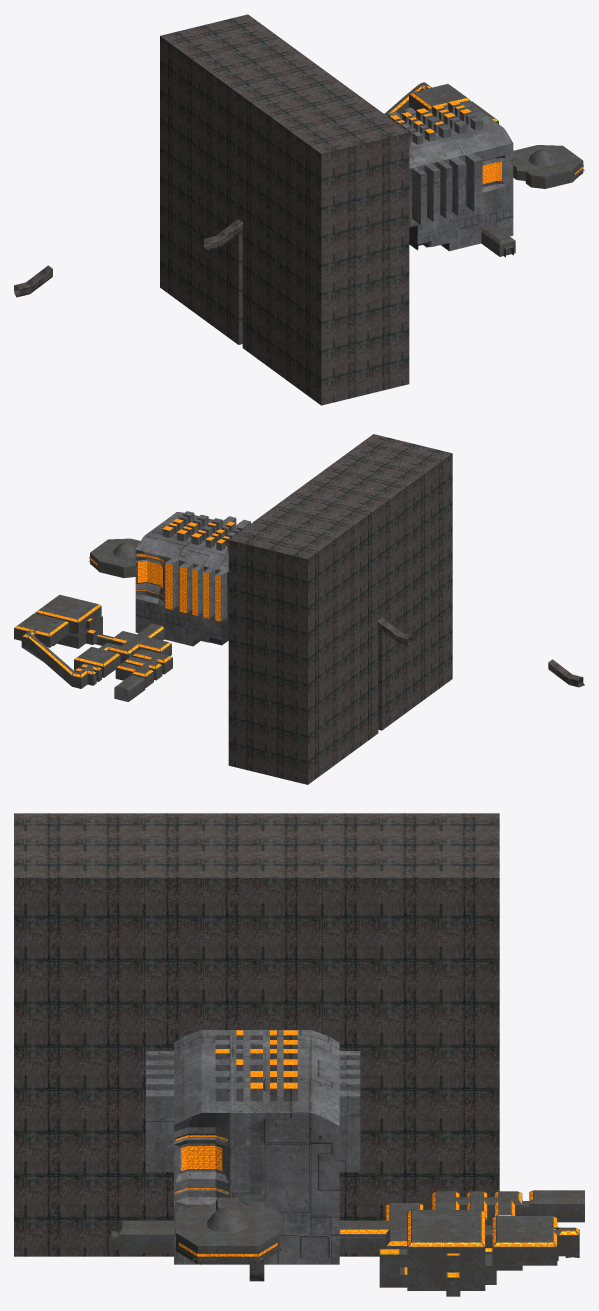
Rendered from levelpart2.fbx.
3 views of the same model, one above another, from view 1: azimuth 30°, elevation 25°; view 2: azimuth 150°, elevation 25°; view 3: azimuth 270°, elevation 25° (orthographic). The views are drawn at different scales.
Visible parts, largest first — view 1: DarkBridge, TreeeRoomWalls, ControlroomGround, BuildingPart2.005, BuildingPart2.004, BridgeCorridor, CorridorBridgeCopy; view 2: DarkBridge, TreeeRoomWalls, BuildingPart2.005, ControlroomGround, BuildingPart2.001; view 3: DarkBridge, TreeeRoomWalls, BuildingPart2.005, ControlroomGround, BuildingPart2.004, BuildingPart2.001.
Part boxes in pixels (x1,y1,x2,y2): DarkBridge: (160,14,409,405); TreeeRoomWalls: (387,100,513,251); ControlroomGround: (513,145,584,188); BuildingPart2.005: (384,82,498,123); BuildingPart2.004: (481,225,515,257); BridgeCorridor: (14,265,52,297); CorridorBridgeCopy: (204,219,242,250); DarkBridge: (228,434,452,784); TreeeRoomWalls: (135,511,250,646); BuildingPart2.005: (14,594,172,688); ControlroomGround: (89,538,140,577); BuildingPart2.001: (114,675,145,701); DarkBridge: (14,813,499,1256); TreeeRoomWalls: (146,1030,360,1264); BuildingPart2.005: (339,1191,579,1296); ControlroomGround: (175,1197,281,1281); BuildingPart2.004: (111,1220,173,1252); BuildingPart2.001: (522,1190,584,1222).
Size of the model in its own units: 68653 by 30020 by 41025.
Materials: 6 (6 with a texture image).
